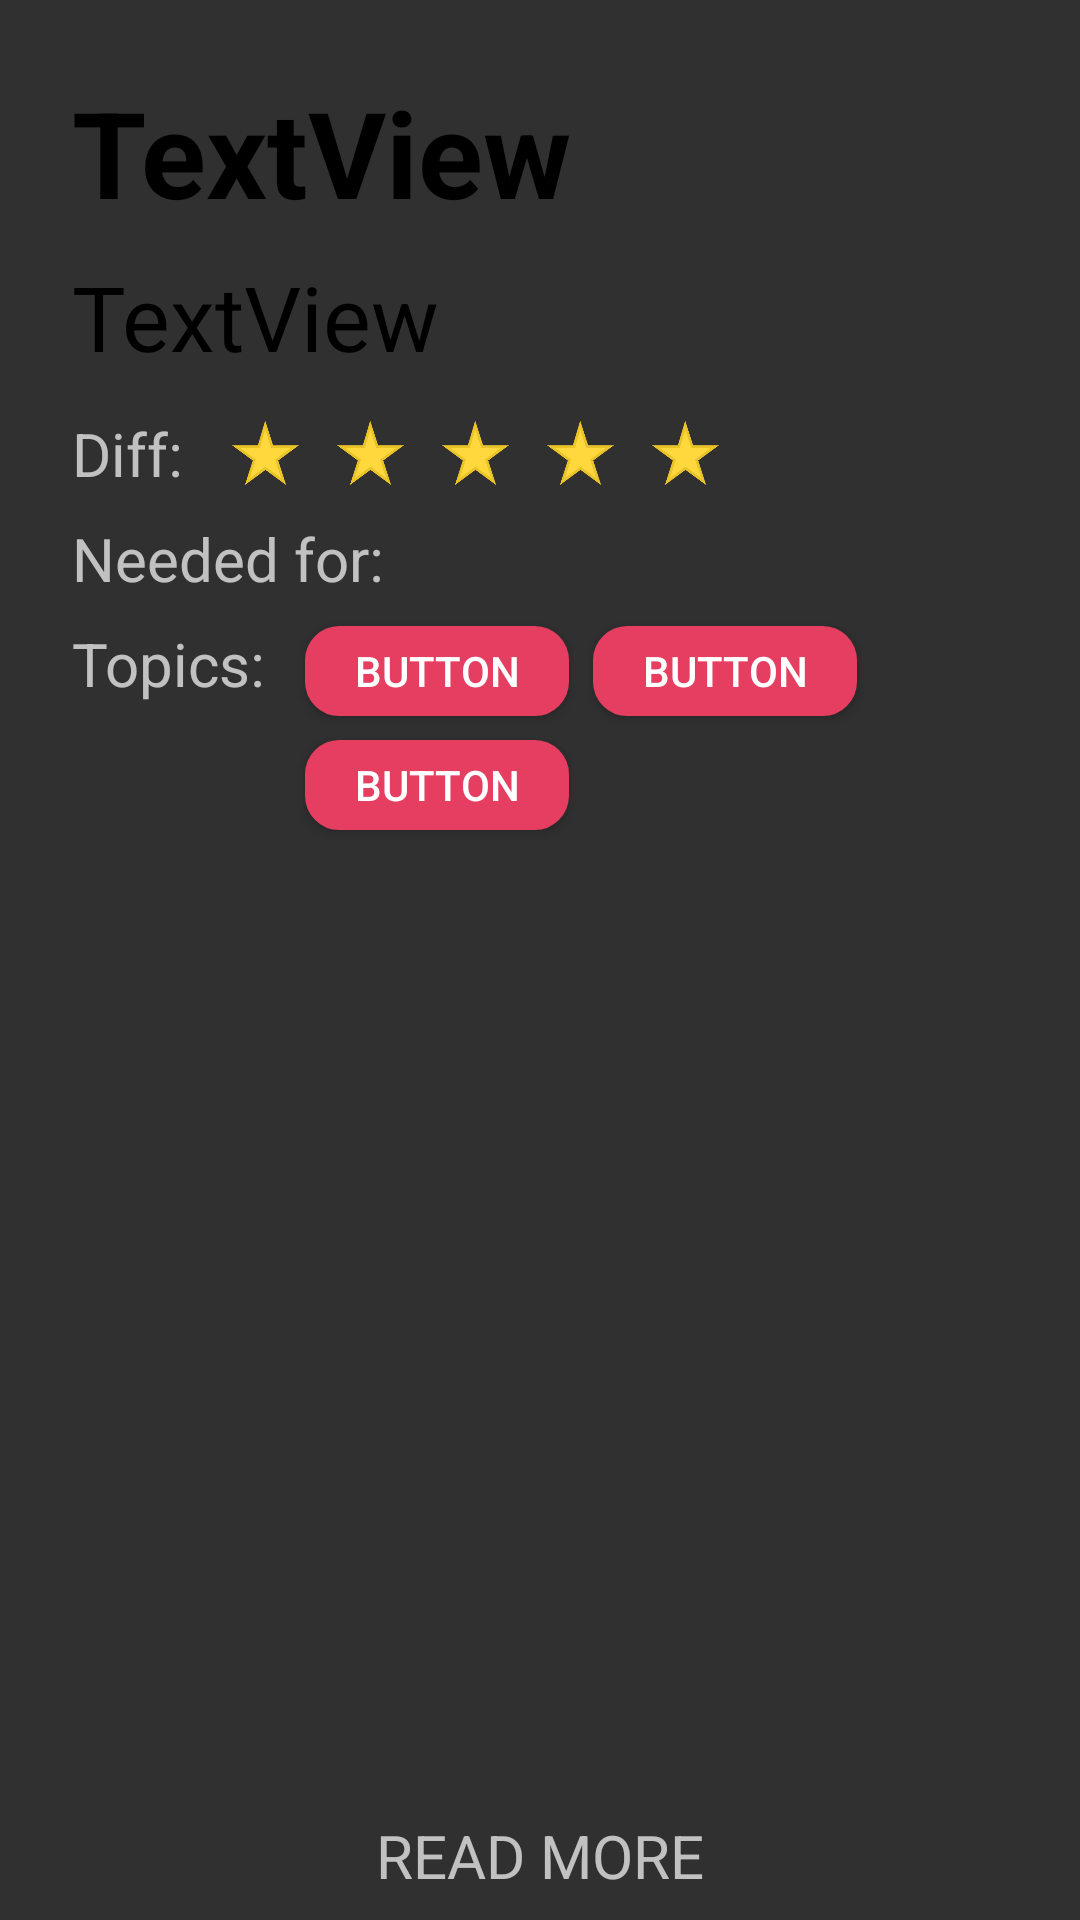

Named icons in this screenshot (1080 x 1920) and their centers, (x=x, y=y):
full star: (x=265, y=453), (x=370, y=453), (x=475, y=453), (x=580, y=453), (x=685, y=453)
